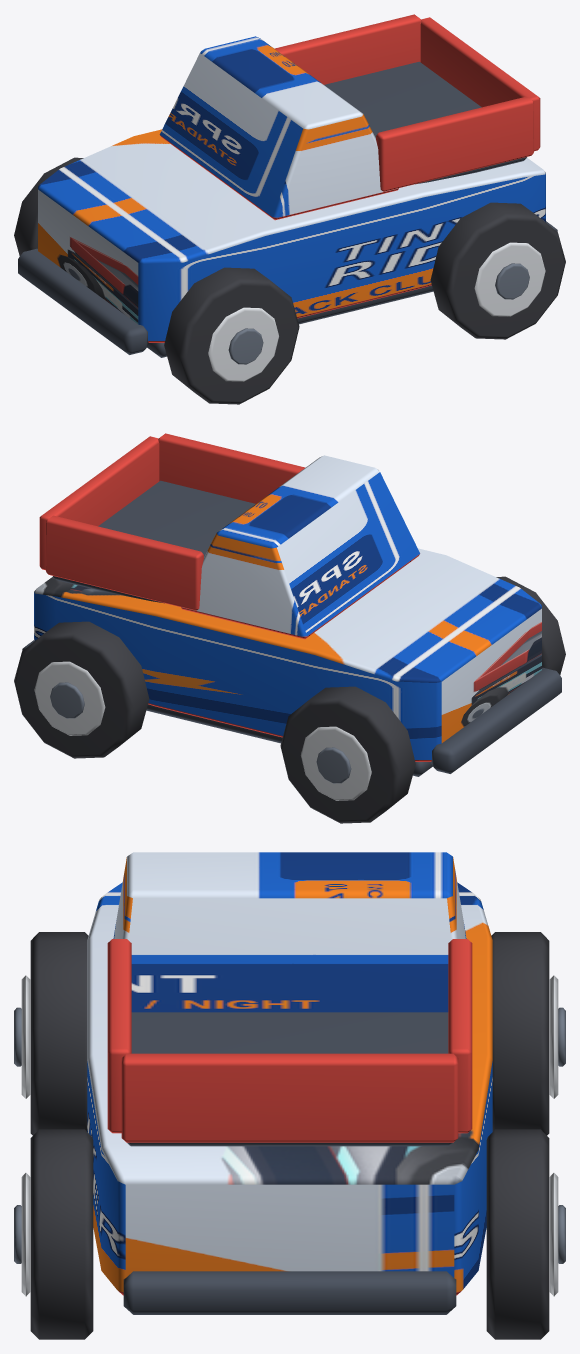
3 renders of one model, top to bottom at view 1: azimuth 30°, elevation 25°; view 2: azimuth 150°, elevation 25°; view 3: azimuth 270°, elevation 25°, orthographic. The views are drawn at different scales.
Visible parts, largest first — view 1: TC-03_connected_shell, TC-03_cabin, Tire, Tire.002, cargo side, cargo floor, cargo side.001, cargo tail, front bumper, Rim, Rim.002, Tire.001 (+3 smaller); view 2: TC-03_connected_shell, TC-03_cabin, Tire.001, Tire.003, cargo side.001, cargo floor, cargo side, cargo tail, front bumper, Rim.001, Rim.003, Tire (+3 smaller); view 3: TC-03_connected_shell, TC-03_cabin, cargo tail, cargo floor, rear bumper, Tire.002, Tire.003, Tire, Tire.001, cargo side, cargo side.001, Rim (+3 smaller).
Boxes of the visible parts, bbox=[...] form: TC-03_connected_shell: bbox=[38, 129, 545, 342]; TC-03_cabin: bbox=[159, 36, 398, 220]; Tire: bbox=[164, 267, 299, 404]; Tire.002: bbox=[430, 202, 565, 339]; cargo side: bbox=[376, 96, 533, 191]; cargo floor: bbox=[324, 61, 526, 184]; cargo side.001: bbox=[274, 14, 421, 84]; cargo tail: bbox=[420, 17, 540, 151]; front bumper: bbox=[18, 248, 148, 354]; Rim: bbox=[208, 307, 278, 381]; Rim.002: bbox=[474, 242, 545, 316]; Tire.001: bbox=[14, 157, 83, 255]; TC-03_connected_shell: bbox=[34, 548, 541, 761]; TC-03_cabin: bbox=[181, 455, 420, 639]; Tire.001: bbox=[280, 686, 415, 823]; Tire.003: bbox=[14, 621, 149, 758]; cargo side.001: bbox=[46, 515, 203, 610]; cargo floor: bbox=[53, 480, 255, 603]; cargo side: bbox=[158, 433, 305, 503]; cargo tail: bbox=[39, 436, 159, 570]; front bumper: bbox=[431, 667, 561, 773]; Rim.001: bbox=[301, 726, 371, 800]; Rim.003: bbox=[34, 661, 105, 735]; Tire: bbox=[496, 576, 565, 674]; TC-03_connected_shell: bbox=[87, 882, 492, 1295]; TC-03_cabin: bbox=[113, 852, 466, 1012]; cargo tail: bbox=[121, 1053, 458, 1142]; cargo floor: bbox=[127, 1012, 452, 1146]; rear bumper: bbox=[123, 1271, 456, 1314]; Tire.002: bbox=[30, 1129, 93, 1339]; Tire.003: bbox=[486, 1129, 549, 1339]; Tire: bbox=[30, 932, 88, 1135]; Tire.001: bbox=[491, 932, 549, 1135]; cargo side: bbox=[107, 939, 131, 1133]; cargo side.001: bbox=[448, 939, 472, 1133]; Rim: bbox=[21, 975, 30, 1098].
Size of the model in its own units: 318 by 163 by 230.
